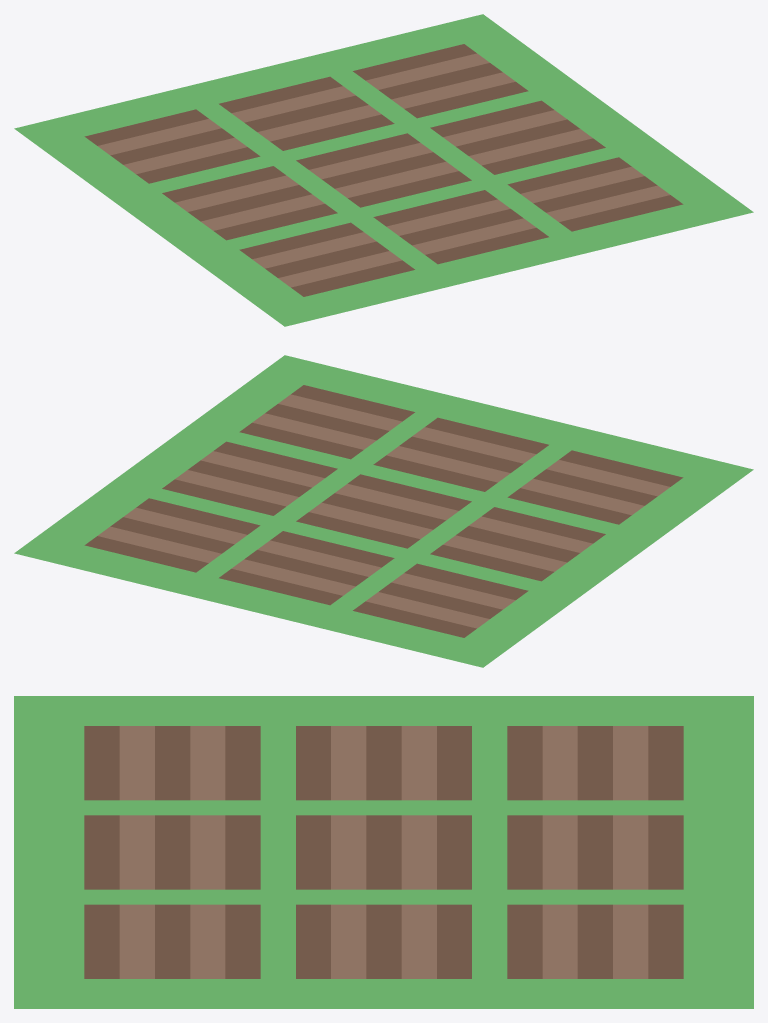
The model's file is Map4.fbx.
3 views of the same model, one above another, from view 1: azimuth 30°, elevation 25°; view 2: azimuth 150°, elevation 25°; view 3: azimuth 270°, elevation 25° (orthographic). The views are drawn at different scales.
Parts seen in each view (by area): view 1: Plane; view 2: Plane; view 3: Plane.
Boxes of the visible parts, x1,y1,x2,y2 form: Plane: [14, 14, 753, 326]; Plane: [14, 355, 753, 667]; Plane: [14, 696, 753, 1008].
Size of the model in its own units: 10000 by 0 by 10000.
